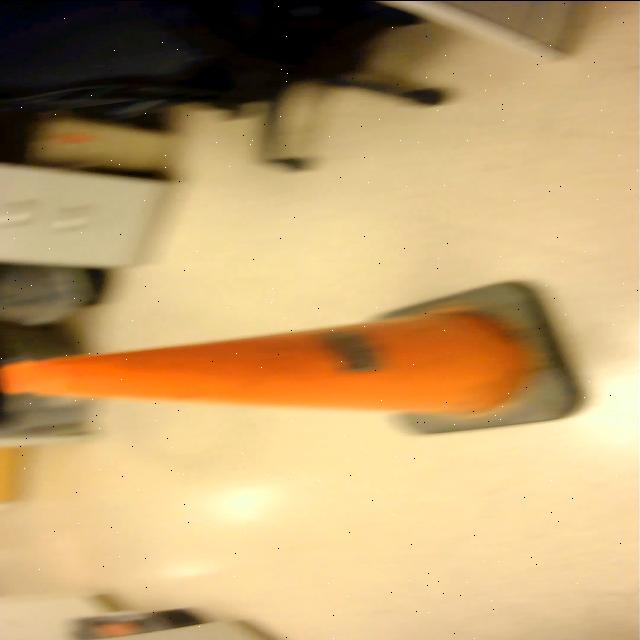traffic cone: (1, 275, 590, 441)
